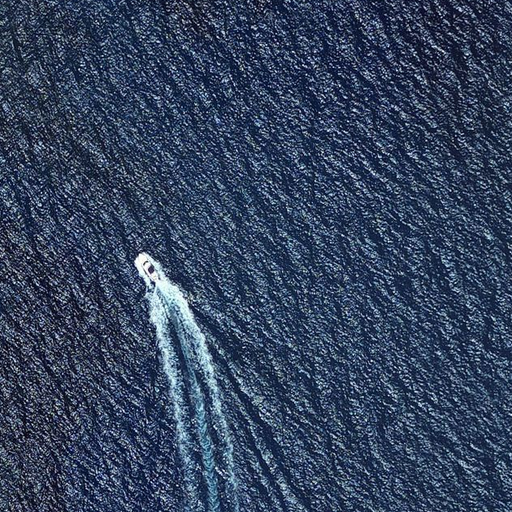ship: (132, 251, 165, 287)
